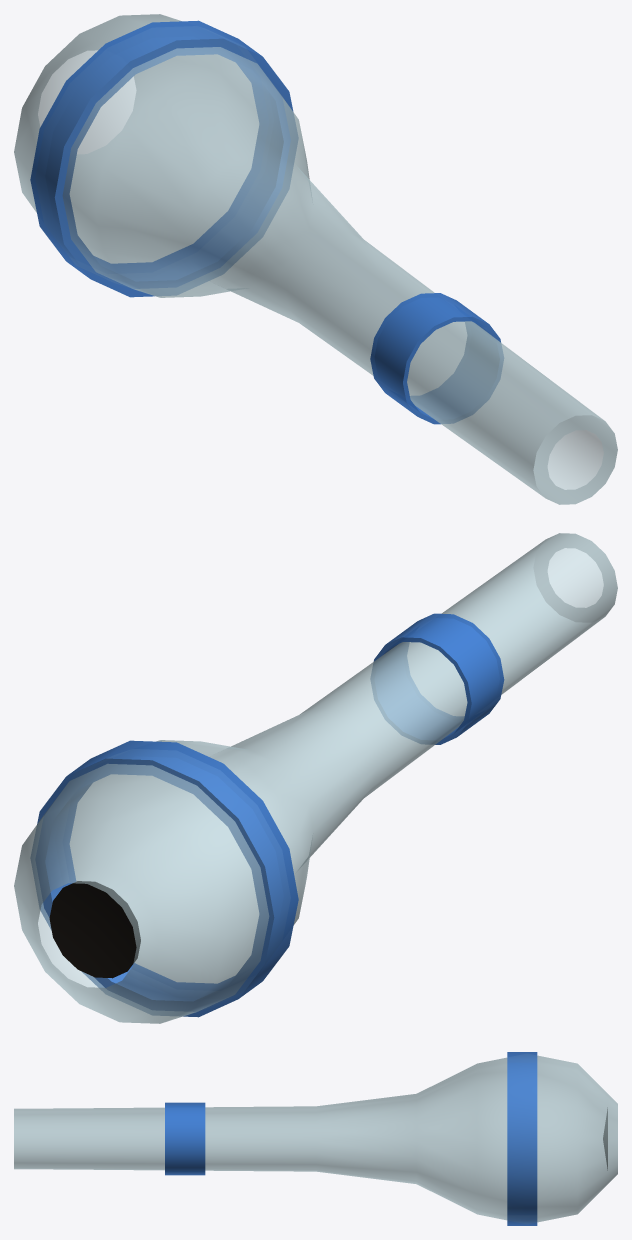
File: glass_pipe.glb
3 views of the same model, one above another, from view 1: azimuth 30°, elevation 25°; view 2: azimuth 150°, elevation 25°; view 3: azimuth 270°, elevation 25° (orthographic). The views are drawn at different scales.
Parts seen in each view (by area): view 1: glass_pipe; view 2: glass_pipe; view 3: glass_pipe.
Part boxes in pixels (x1,y1,x2,y2): glass_pipe: (14, 14, 617, 504); glass_pipe: (14, 533, 617, 1023); glass_pipe: (14, 1052, 617, 1225).
Bounding box in the file's own units: 0.0346 × 0.0346 × 0.12.
